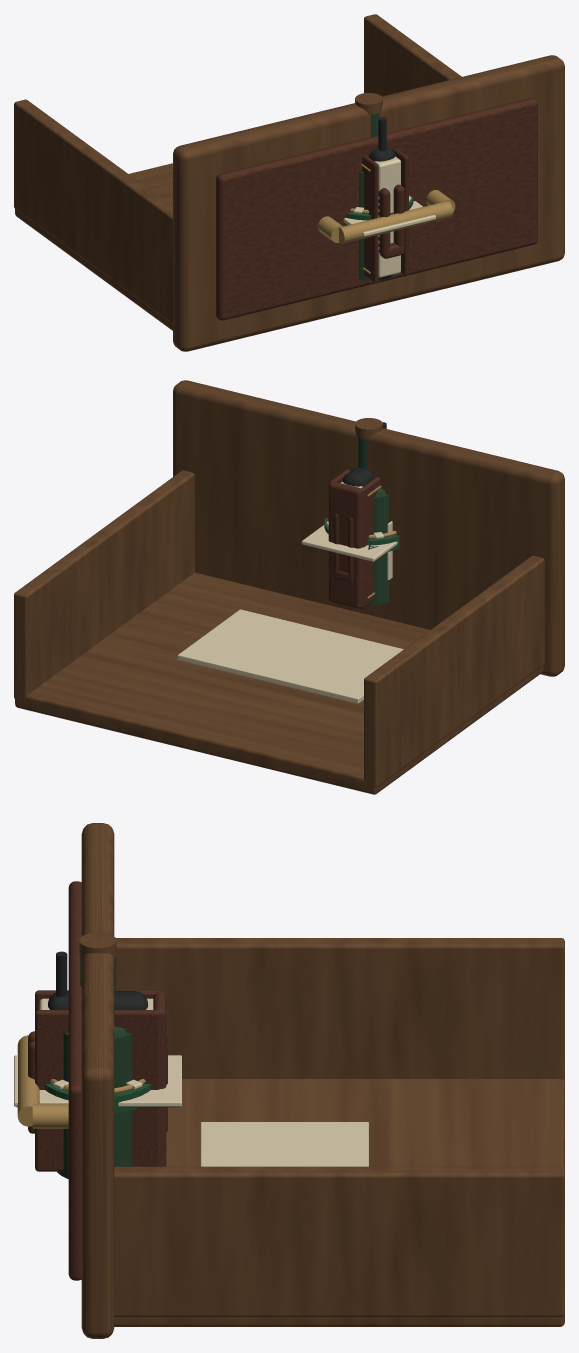
Rendered from interactive-props.glb.
3 renders of one model, top to bottom at view 1: azimuth 30°, elevation 25°; view 2: azimuth 150°, elevation 25°; view 3: azimuth 270°, elevation 25°, orthographic. The views are drawn at different scales.
Parts seen in each view (by area): view 1: drawerMesh, player-notesMesh, false-bottom-walletMesh, steadying-drinkMesh, disposable-phoneMesh, loose-cardMesh; view 2: drawerMesh, player-notesMesh, steadying-drinkMesh, loose-cardMesh, false-bottom-walletMesh; view 3: drawerMesh, player-notesMesh, steadying-drinkMesh, loose-cardMesh, disposable-phoneMesh, loose-chipMesh.
Boxes of the visible parts, bbox=[...] form: drawerMesh: bbox=[14, 14, 564, 351]; player-notesMesh: bbox=[361, 148, 408, 283]; false-bottom-walletMesh: bbox=[378, 184, 404, 258]; steadying-drinkMesh: bbox=[355, 93, 395, 280]; disposable-phoneMesh: bbox=[369, 117, 395, 279]; loose-cardMesh: bbox=[343, 201, 435, 236]; drawerMesh: bbox=[14, 380, 564, 794]; player-notesMesh: bbox=[328, 469, 381, 608]; steadying-drinkMesh: bbox=[355, 418, 392, 605]; loose-cardMesh: bbox=[301, 525, 397, 561]; false-bottom-walletMesh: bbox=[333, 514, 353, 583]; drawerMesh: bbox=[17, 823, 564, 1338]; player-notesMesh: bbox=[35, 990, 166, 1171]; steadying-drinkMesh: bbox=[57, 932, 132, 1178]; loose-cardMesh: bbox=[14, 1055, 181, 1107]; disposable-phoneMesh: bbox=[48, 951, 147, 1009]; loose-chipMesh: bbox=[45, 1079, 150, 1113].
Bounding box in the file's own units: 0.64 × 0.326 × 0.59.
7 materials, 2 textured.
